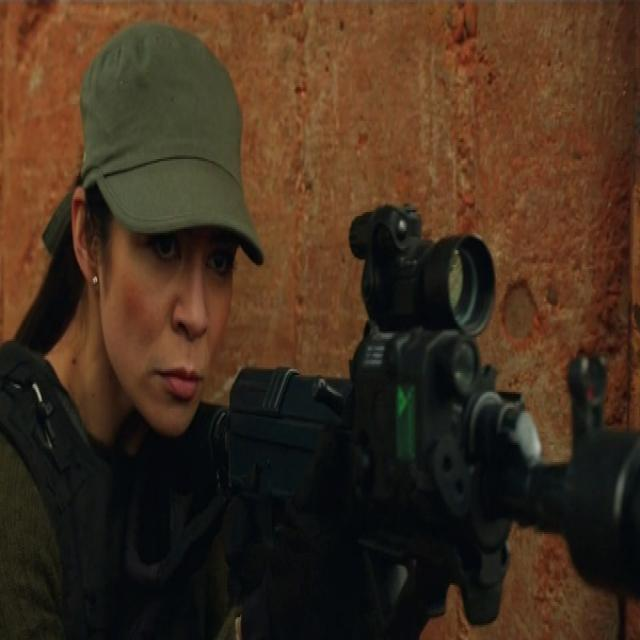rifle: (173, 199, 640, 640)
